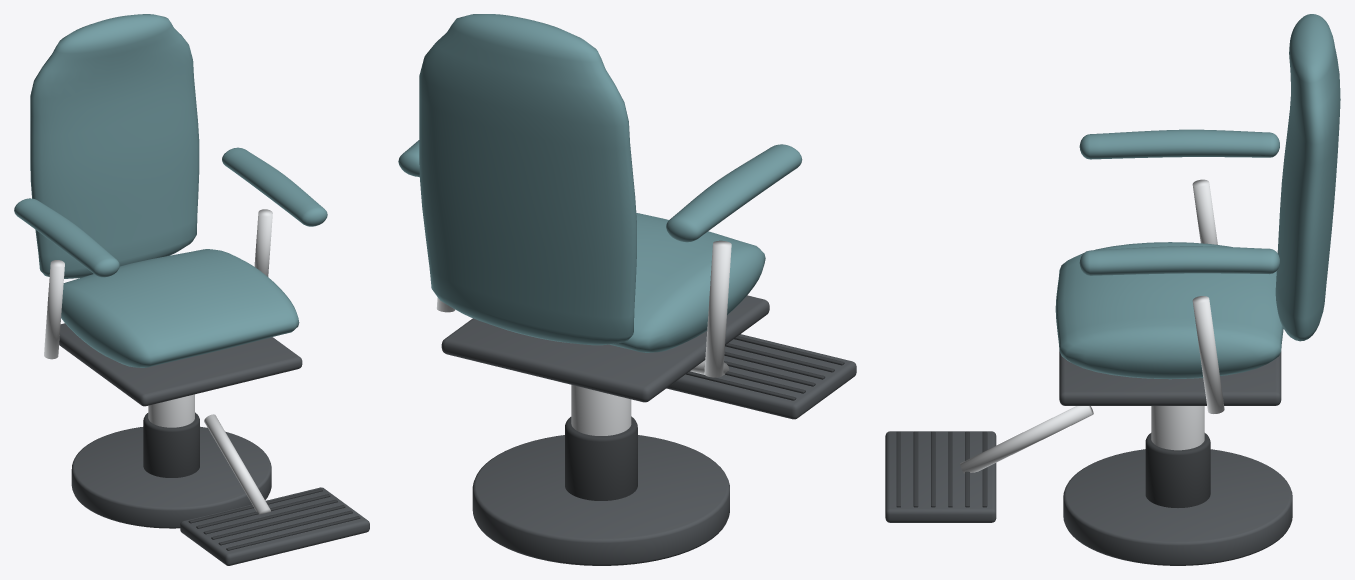
Rendered from ExamChair.fbx.
3 renders of one model, left to right at view 1: azimuth 30°, elevation 25°; view 2: azimuth 150°, elevation 25°; view 3: azimuth 270°, elevation 25°, orthographic. The views are drawn at different scales.
Visible parts, largest first — view 1: ChairBack, ChairSeat, ChairFoot, ChairSeatPan, Footrest, Armrest, Armrest.001, ChairBellows, FootrestStrut, ArmSupport, ChairHydraulics, ArmSupport.001 (+6 smaller); view 2: ChairBack, ChairFoot, ChairSeatPan, ChairSeat, Footrest, Armrest, ChairBellows, ArmSupport, ChairHydraulics; view 3: ChairSeat, ChairFoot, ChairBack, Footrest, ChairSeatPan, Armrest, Armrest.001, ChairBellows, ChairHydraulics, FootrestStrut, ArmSupport.001, ArmSupport.
Boxes of the visible parts, box(x1,y1,x2,y2) form: ChairBack: box(30, 14, 199, 278); ChairSeat: box(61, 249, 299, 367); ChairFoot: box(71, 426, 271, 528); ChairSeatPan: box(59, 323, 302, 406); Footrest: box(180, 487, 369, 565); Armrest: box(14, 198, 119, 277); Armrest.001: box(222, 147, 327, 226); ChairBellows: box(143, 412, 199, 477); FootrestStrut: box(204, 414, 270, 514); ArmSupport: box(44, 260, 64, 359); ChairHydraulics: box(148, 394, 194, 427); ArmSupport.001: box(254, 209, 272, 276); ChairBack: box(419, 14, 636, 345); ChairFoot: box(472, 435, 729, 565); ChairSeatPan: box(441, 295, 769, 402); ChairSeat: box(609, 213, 765, 352); Footrest: box(666, 334, 856, 419); Armrest: box(666, 144, 802, 242); ChairBellows: box(565, 416, 637, 500); ArmSupport: box(704, 240, 731, 377); ChairHydraulics: box(571, 385, 631, 435); ChairSeat: box(1055, 242, 1283, 379); ChairFoot: box(1063, 449, 1292, 565); ChairBack: box(1275, 14, 1340, 341); Footrest: box(885, 431, 996, 522); ChairSeatPan: box(1059, 351, 1281, 405); Armrest: box(1079, 129, 1279, 159); Armrest.001: box(1079, 246, 1279, 275); ChairBellows: box(1145, 433, 1210, 507); ChairHydraulics: box(1151, 406, 1204, 450); FootrestStrut: box(960, 406, 1093, 473); ArmSupport.001: box(1192, 296, 1224, 413); ArmSupport: box(1192, 179, 1217, 244).
Bounding box in the file's own units: 0.82 × 1.41 × 1.19.
